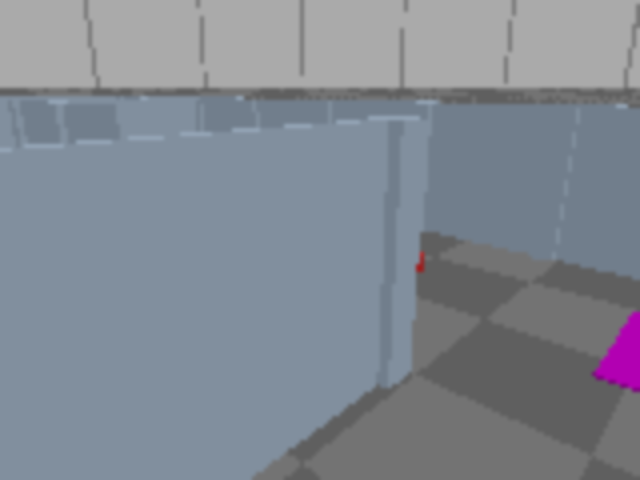goal_zone: (593, 310, 638, 478)
